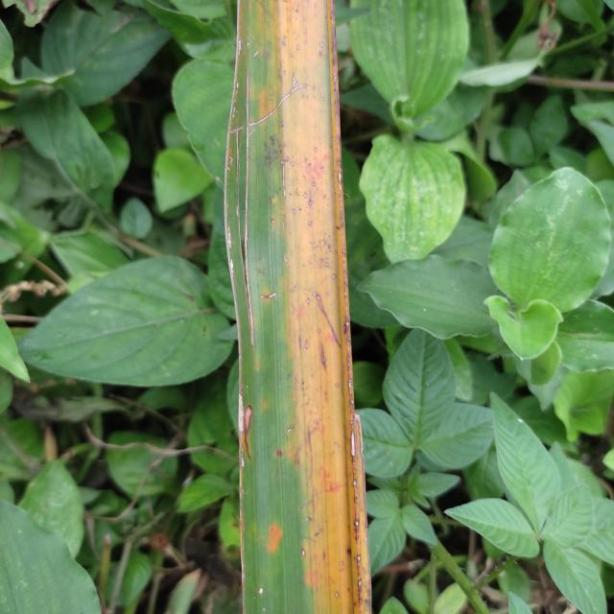Megnesium: (224, 0, 374, 614)
